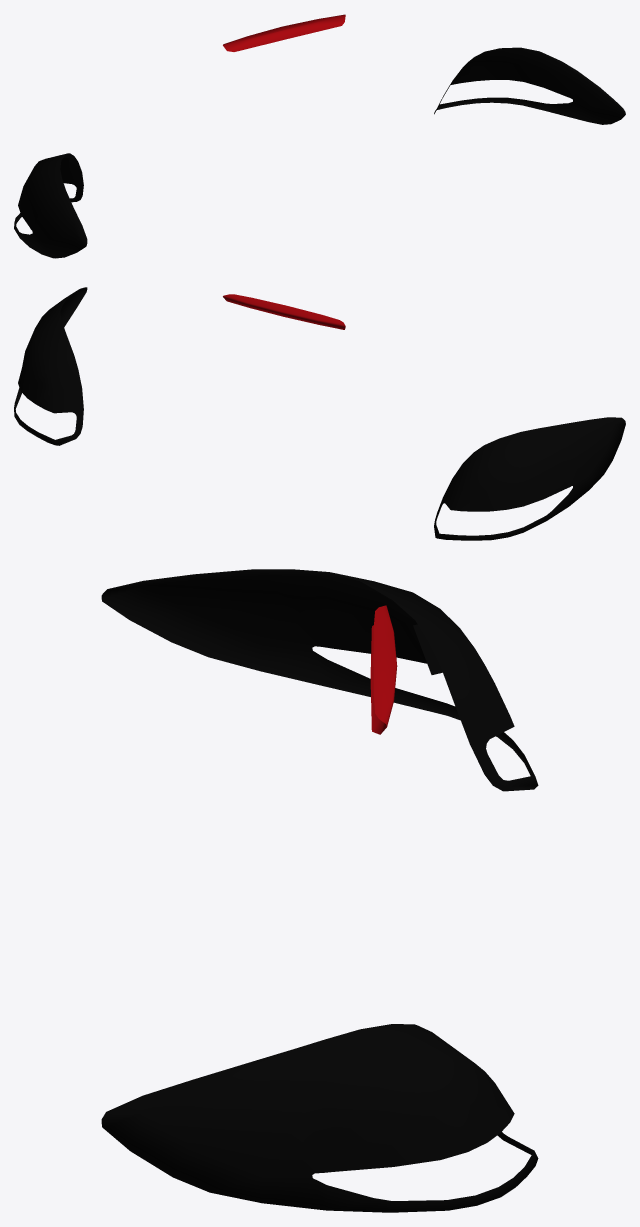
The model's file is brake_light.dae.
3 views of the same model, one above another, from view 1: azimuth 30°, elevation 25°; view 2: azimuth 150°, elevation 25°; view 3: azimuth 270°, elevation 25° (orthographic). The views are drawn at different scales.
Parts seen in each view (by area): view 1: detail_gla_001, detail_gla_001_001, detail_g04_001; view 2: detail_gla_001_001, detail_gla_001, detail_g04_001; view 3: detail_gla_001, detail_gla_001_001, detail_g04_001.
Part boxes in pixels (x1,y1,x2,y2): detail_gla_001: (434,47,625,124); detail_gla_001_001: (14,153,87,258); detail_g04_001: (223,14,345,51); detail_gla_001_001: (434,417,625,540); detail_gla_001: (14,287,87,445); detail_g04_001: (223,294,345,329); detail_gla_001: (101,1024,538,1212); detail_gla_001_001: (101,569,538,791); detail_g04_001: (370,605,397,734).
Bounding box in the file's own units: 1.49 × 0.5113 × 0.4041.
